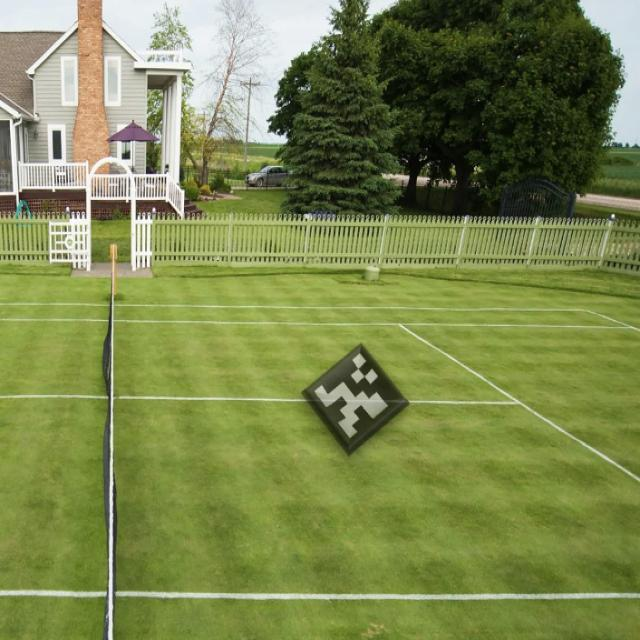marker: (300, 334, 413, 462)
